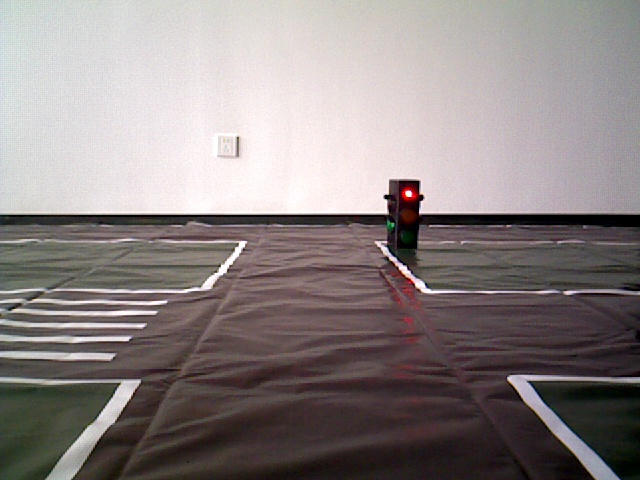red: (385, 185, 418, 250)
